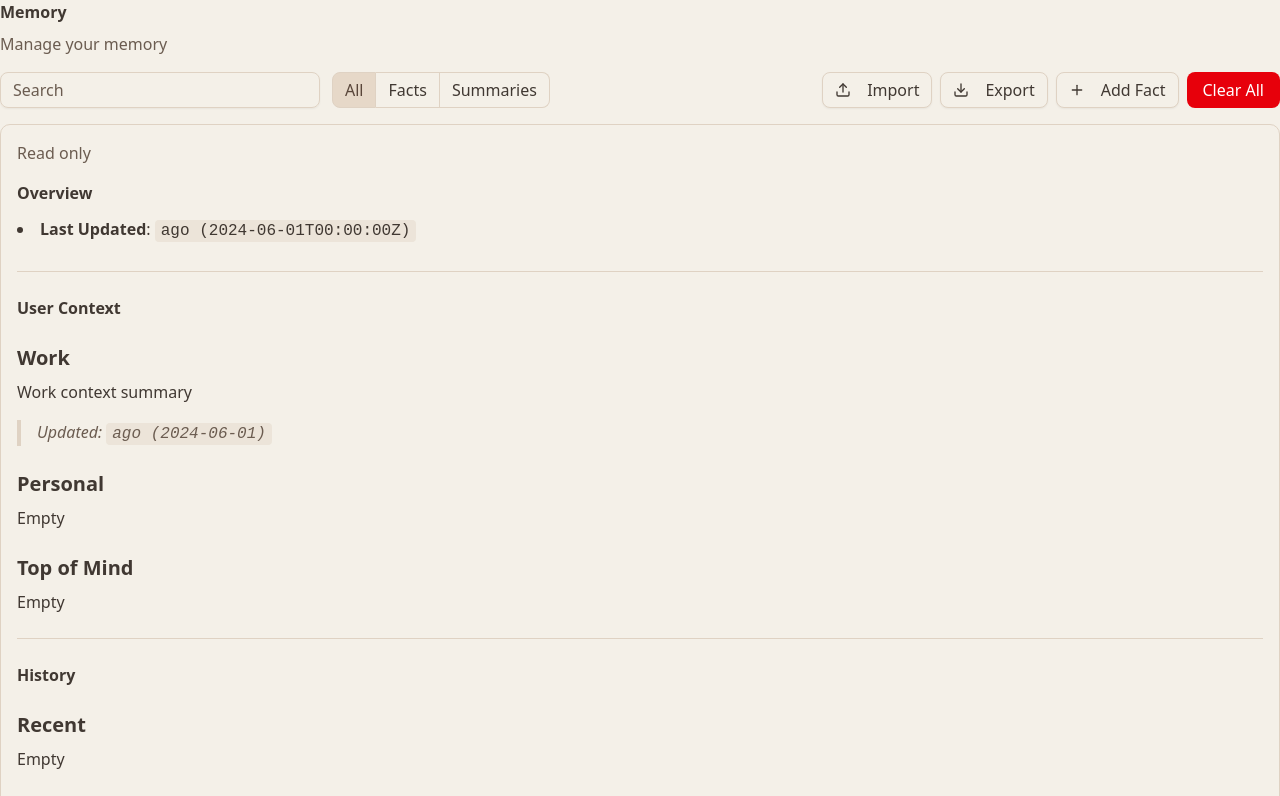
Test: MemorySettingsPage › Add fact › successful create shows success toast and closes dialog
Click the button "Add Fact" at point(1117, 90), box [1056,72,1178,108]
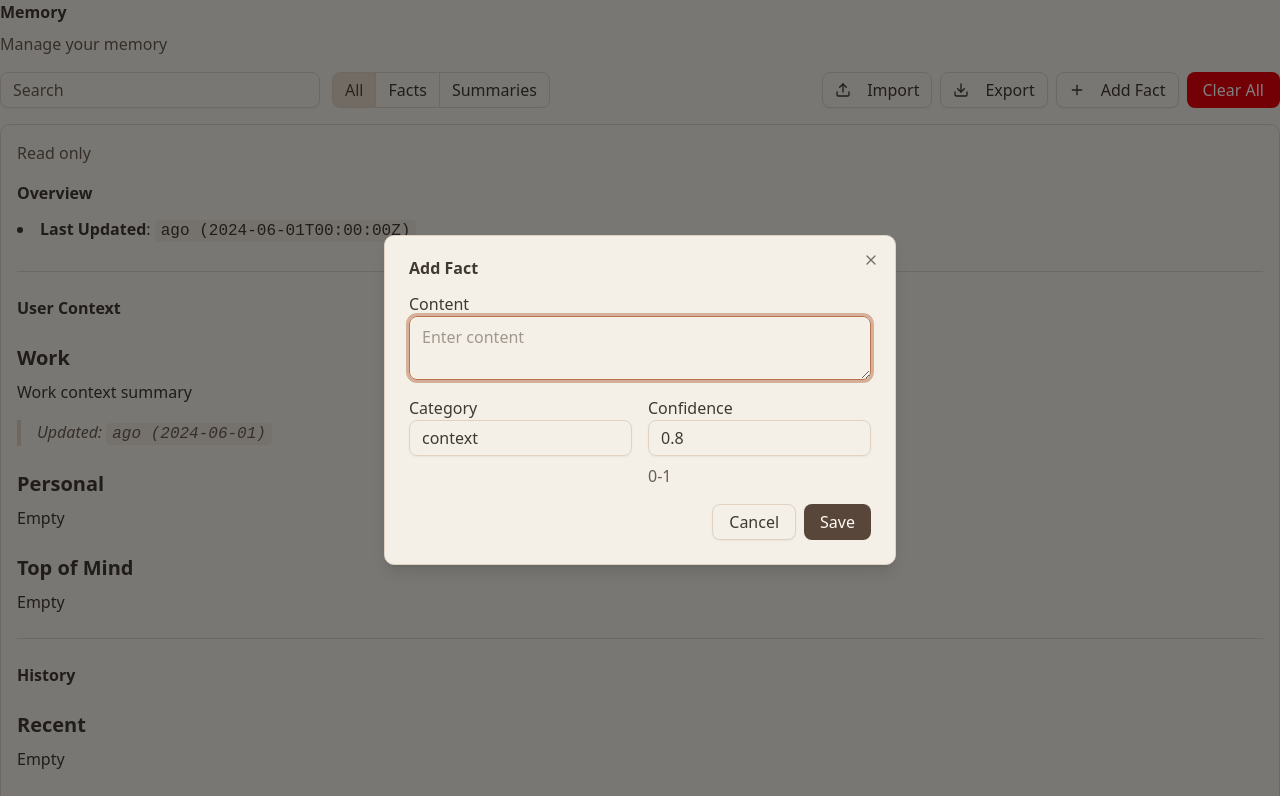
Type "New important fact" into the text box labelled "Content" at point(640, 348), box [409,316,871,380]
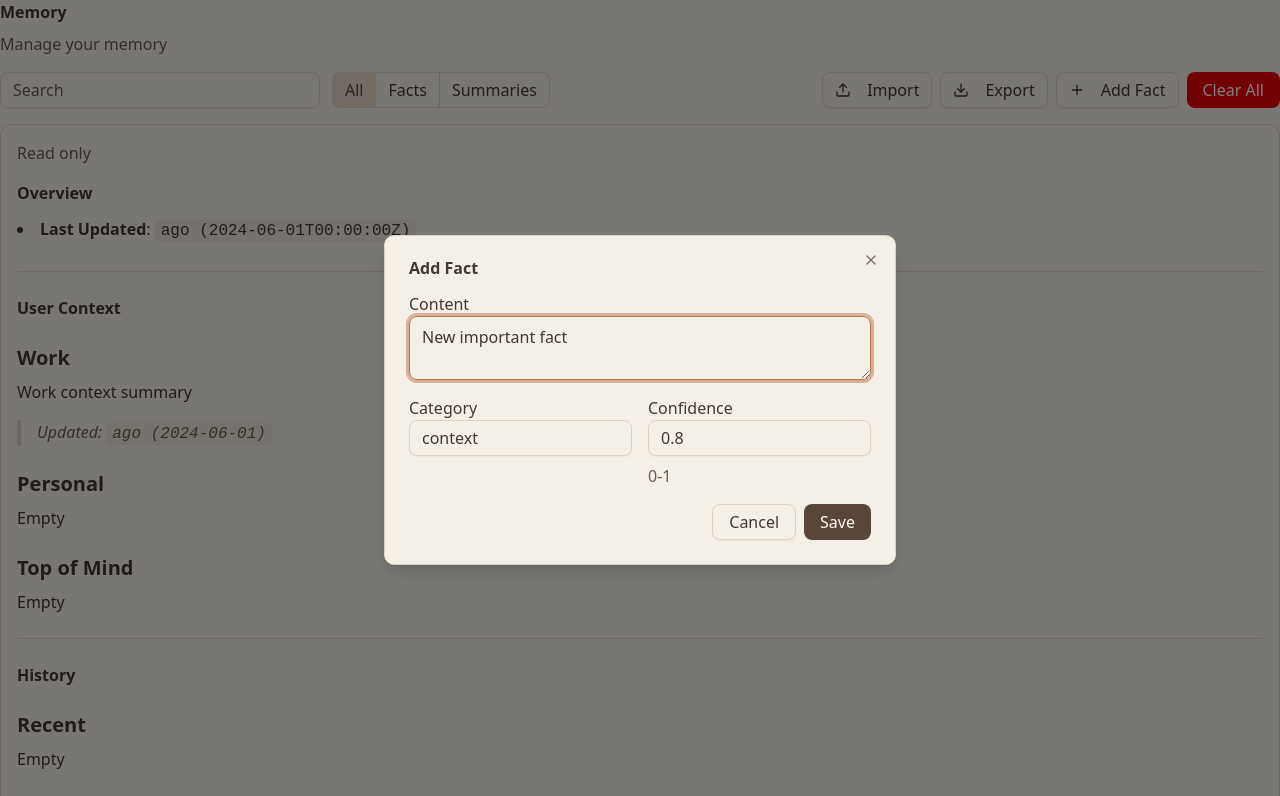
Type "preference" into the field labelled "Category" at point(520, 438), box [409,420,632,456]
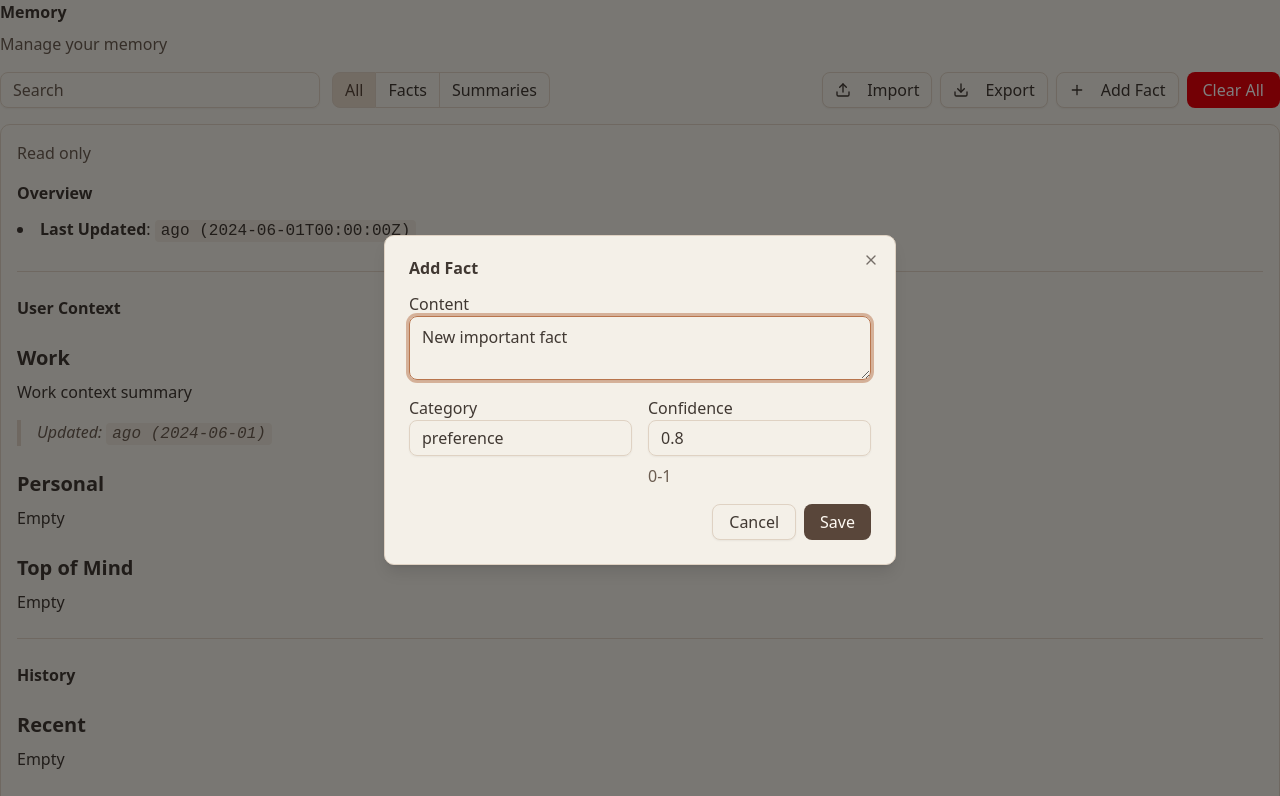
Replace the text in the number field labelled "Confidence" with "0.9" at point(760, 438), box [648,420,871,456]
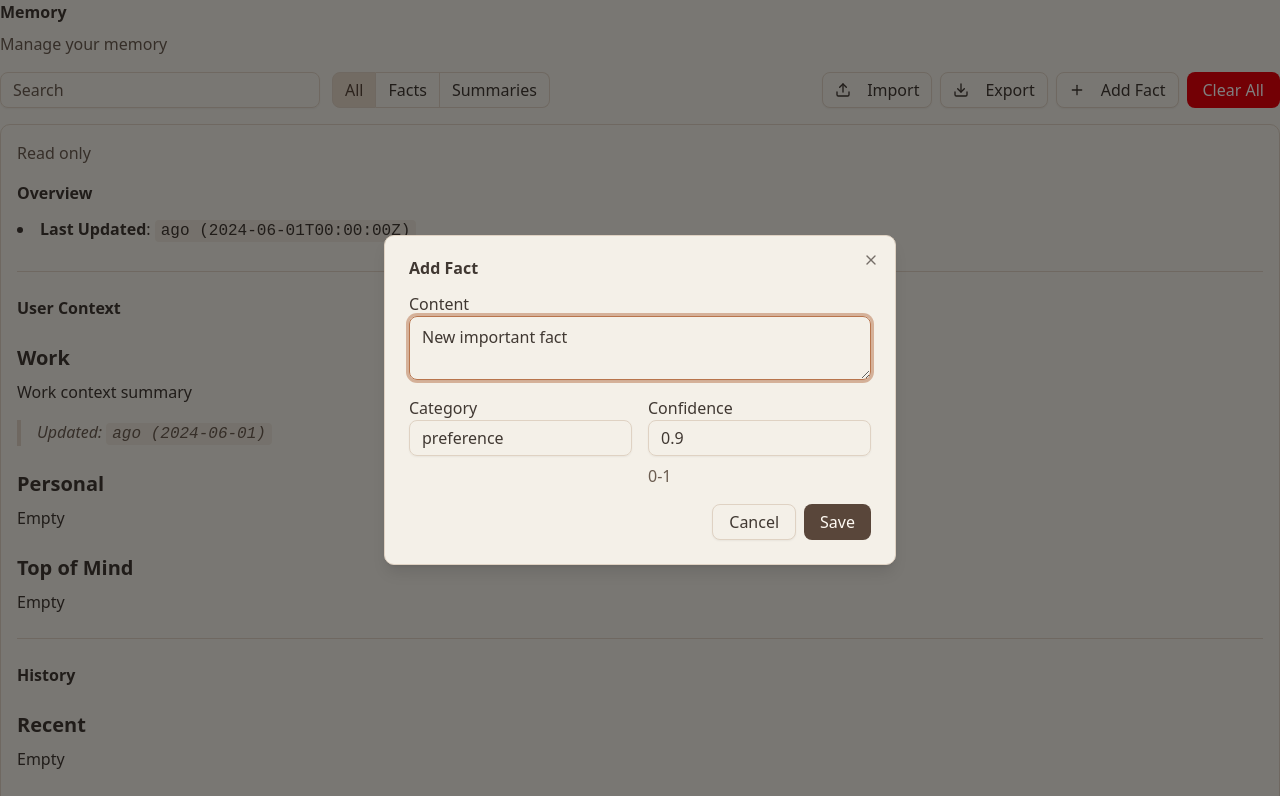
Click the button "Save" at point(838, 522), box [804,504,871,540]
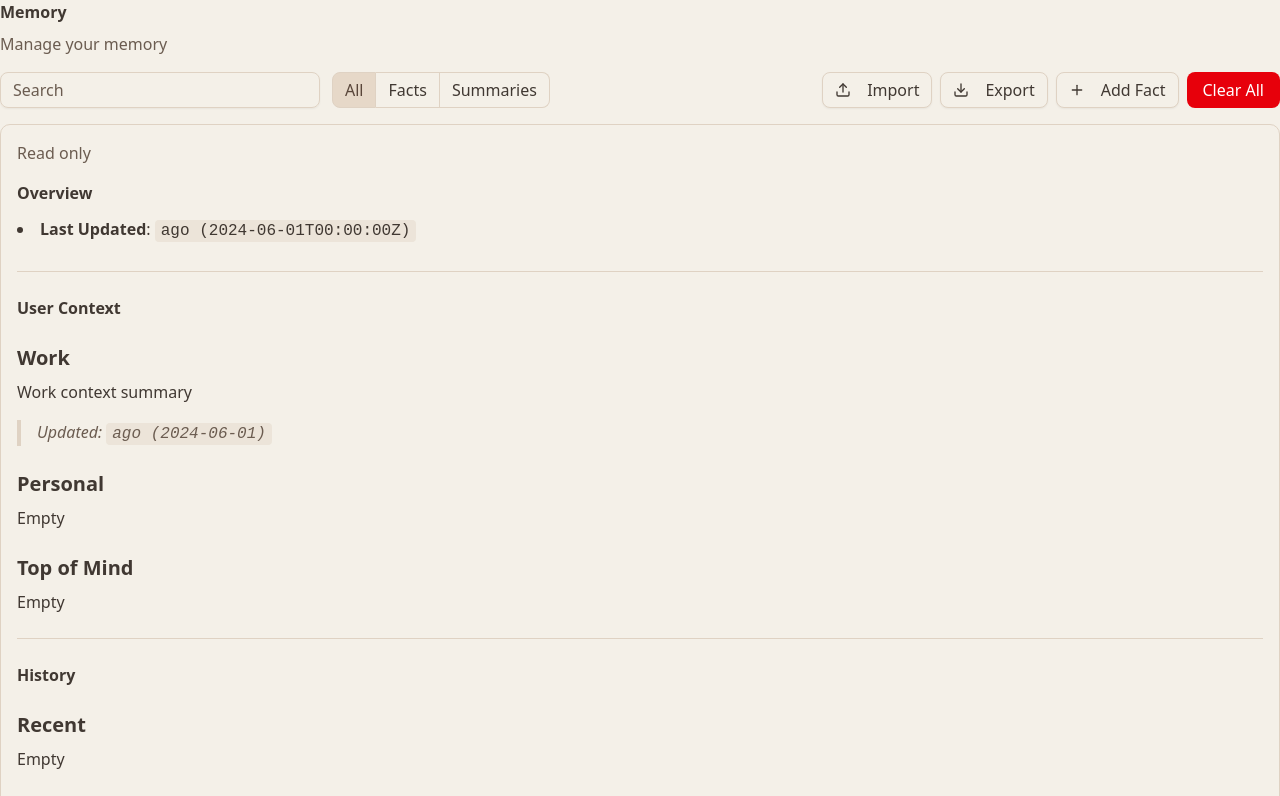
Expected: the label labelled "Content" is gone
